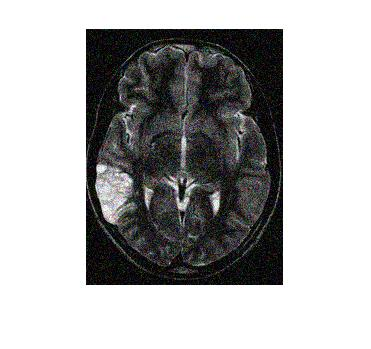Brain_Cancer: (95, 162, 138, 226)
